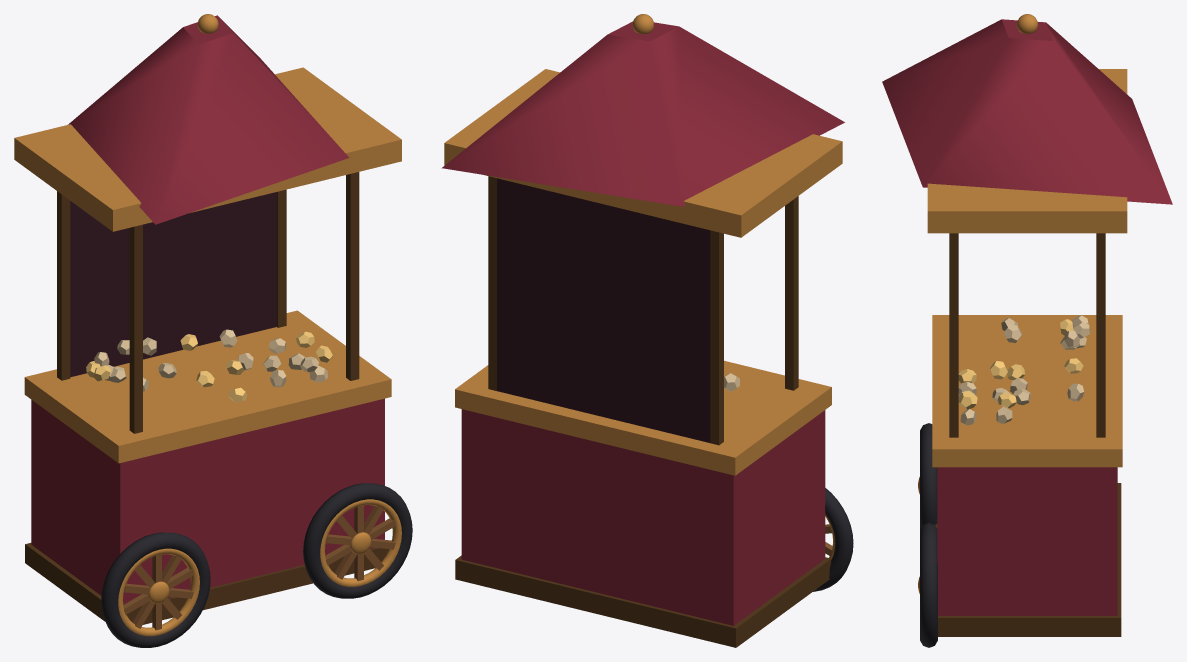
Rendered from mia-popcorn_cart.glb.
The picture shows the model from 3 angles, left to right: view 1: azimuth 30°, elevation 25°; view 2: azimuth 150°, elevation 25°; view 3: azimuth 270°, elevation 25°; orthographic projection. The views are drawn at different scales.
Parts seen in each view (by area): view 1: Body_velvet, Body_brass, Body_dark, Body_wood, Body_iron, Body_oak, Body_ivory, Body_trim; view 2: Body_velvet, Body_dark, Body_brass, Body_wood, Body_iron; view 3: Body_velvet, Body_brass, Body_wood, Body_iron, Body_ivory, Body_trim.
Part boxes in pixels (x1=…): Body_velvet: x1=31, y1=15, x2=384, y2=604; Body_brass: x1=14, y1=14, x2=401, y2=636; Body_dark: x1=70, y1=192, x2=276, y2=377; Body_wood: x1=25, y1=172, x2=388, y2=624; Body_iron: x1=101, y1=483, x2=412, y2=647; Body_oak: x1=123, y1=505, x2=395, y2=630; Body_ivory: x1=94, y1=329, x2=327, y2=391; Body_trim: x1=86, y1=331, x2=332, y2=402; Body_velvet: x1=441, y1=21, x2=844, y2=625; Body_dark: x1=497, y1=178, x2=710, y2=442; Body_brass: x1=444, y1=14, x2=842, y2=559; Body_wood: x1=455, y1=176, x2=831, y2=647; Body_iron: x1=813, y1=488, x2=853, y2=591; Body_velvet: x1=882, y1=19, x2=1172, y2=615; Body_brass: x1=918, y1=14, x2=1127, y2=593; Body_wood: x1=935, y1=233, x2=1121, y2=636; Body_iron: x1=920, y1=423, x2=937, y2=647; Body_ivory: x1=958, y1=315, x2=1090, y2=425; Body_trim: x1=958, y1=319, x2=1083, y2=409.
Bounding box in the file's own units: 1.38 × 2.44 × 1.11.
